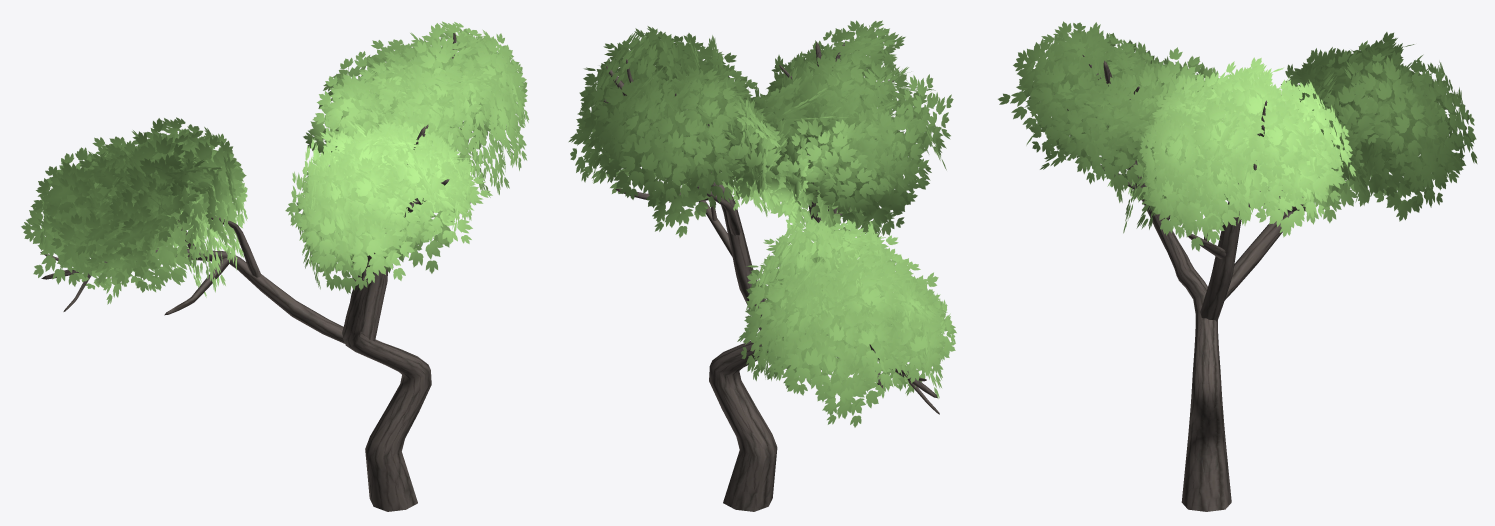
File: street-tree-9.glb
3 renders of one model, left to right at view 1: azimuth 30°, elevation 25°; view 2: azimuth 150°, elevation 25°; view 3: azimuth 270°, elevation 25°, orthographic. The views are drawn at different scales.
Visible parts, largest first — view 1: MapleTree_2; view 2: MapleTree_2; view 3: MapleTree_2.
Boxes of the visible parts, bbox=[...] form: MapleTree_2: bbox=[21, 21, 529, 511]; MapleTree_2: bbox=[568, 20, 956, 511]; MapleTree_2: bbox=[998, 21, 1477, 511].
Size of the model in its own units: 6.7 by 6.71 by 6.24.
Materials: 2 (2 with a texture image).
